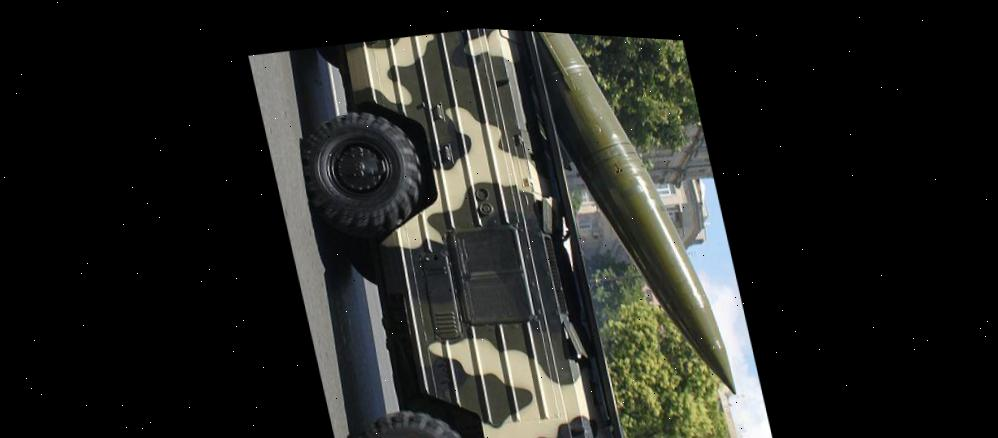rszo: (245, 15, 769, 438)
